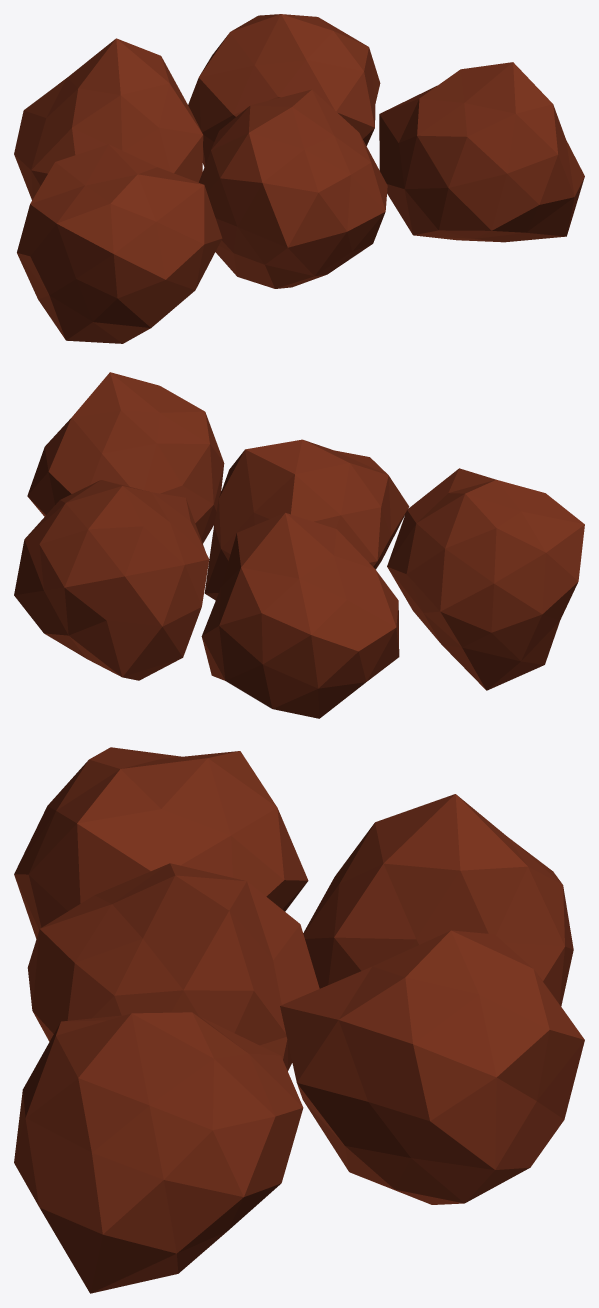
File: karaage.fbx
3 renders of one model, top to bottom at view 1: azimuth 30°, elevation 25°; view 2: azimuth 150°, elevation 25°; view 3: azimuth 270°, elevation 25°, orthographic. The views are drawn at different scales.
Visible parts, largest first — view 1: ICO球.001, ICO球.004, ICO球, ICO球.002, ICO球.003; view 2: ICO球.001, ICO球.002, ICO球.003, ICO球.004, ICO球; view 3: ICO球.004, ICO球.003, ICO球, ICO球.001, ICO球.002.
Part boxes in pixels (x1,y1,x2,y2): ICO球.001: (17, 144, 222, 343); ICO球.004: (379, 62, 584, 242); ICO球: (199, 89, 387, 288); ICO球.002: (14, 38, 203, 200); ICO球.003: (188, 14, 380, 166); ICO球.001: (387, 468, 584, 690); ICO球.002: (201, 513, 399, 718); ICO球.003: (14, 480, 209, 680); ICO球.004: (27, 372, 224, 543); ICO球: (204, 439, 409, 600); ICO球.004: (14, 1012, 303, 1293); ICO球.003: (280, 930, 584, 1204); ICO球: (27, 863, 319, 1071); ICO球.001: (14, 747, 308, 938); ICO球.002: (303, 794, 573, 1006).
Size of the model in its own units: 35.39 by 13.33 by 22.48.
Materials: 1 (1 with a texture image).
